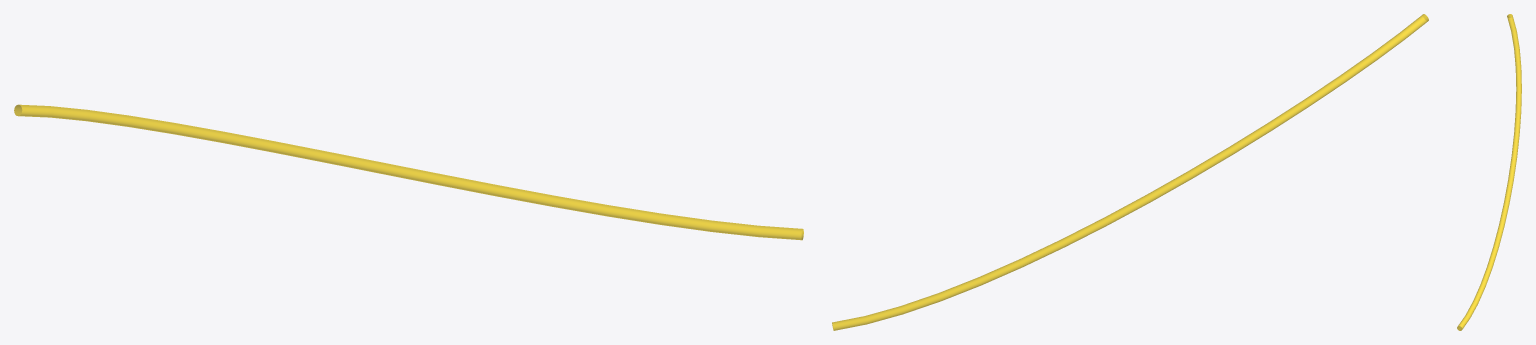
File: Event_17758602_track_162.fbx
3 views of the same model, side by side, from view 1: azimuth 30°, elevation 25°; view 2: azimuth 210°, elevation 25°; view 3: azimuth 270°, elevation 25° (orthographic). The views are drawn at different scales.
Visible parts, largest first — view 1: Model; view 2: Model; view 3: Model.
Boxes of the visible parts, x1,y1,x2,y2 form: Model: (14,104,803,240); Model: (832,14,1428,330); Model: (1457,14,1521,330).
Size of the model in its own units: 2.96 by 1.06 by 0.4504.
